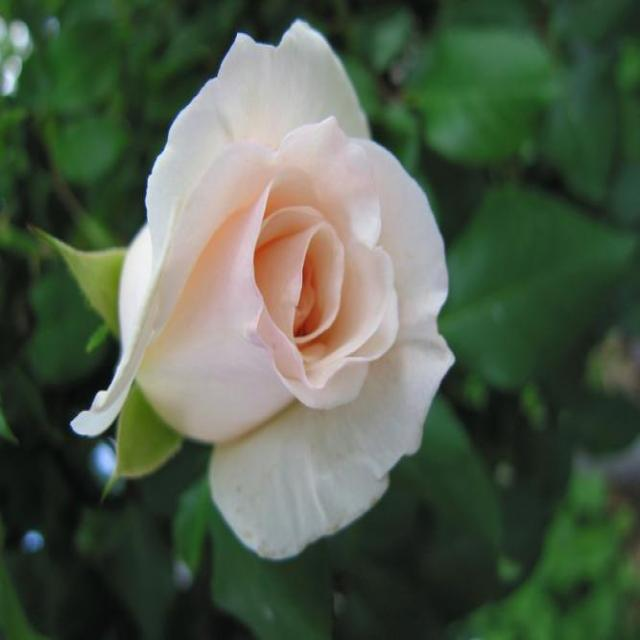rose: (81, 6, 516, 566)
